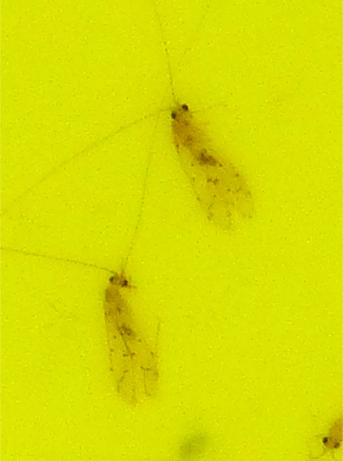Plecoptera: (165, 100, 243, 189), (100, 269, 142, 361)
